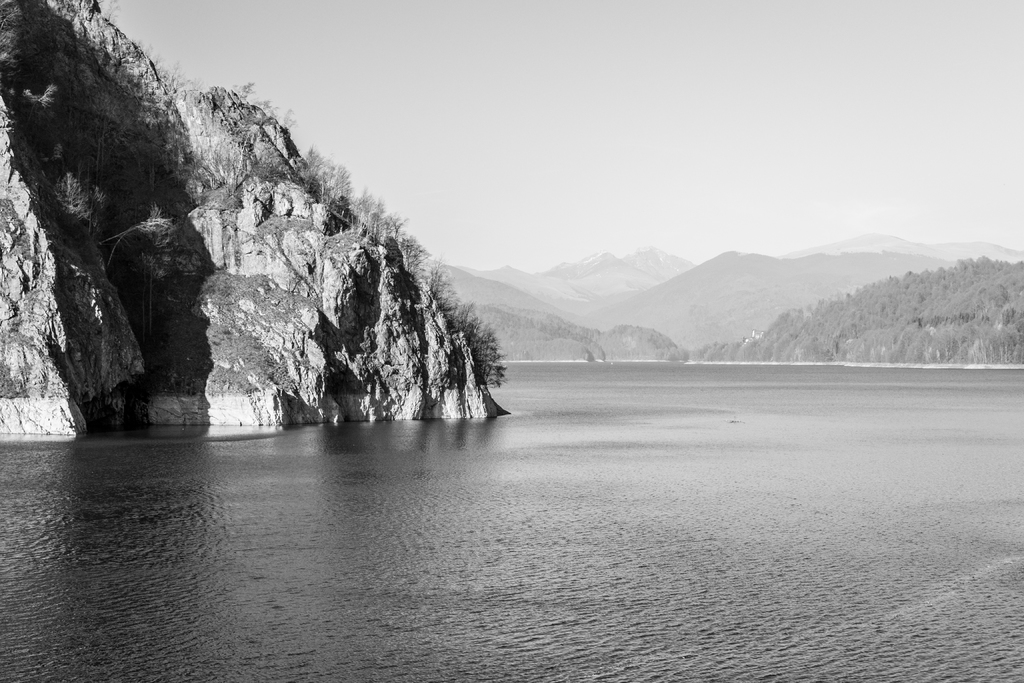Tree: (355, 186, 503, 391), (0, 0, 103, 231), (769, 251, 1023, 322), (130, 199, 175, 350), (304, 146, 350, 221)
